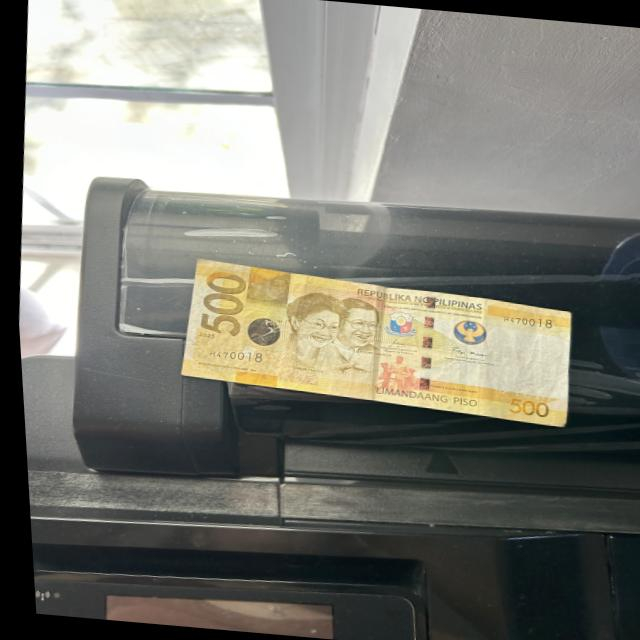concealed_value: (242, 268, 287, 306)
optically_variable_device: (240, 314, 276, 344)
see_through_mark: (488, 381, 548, 402)
